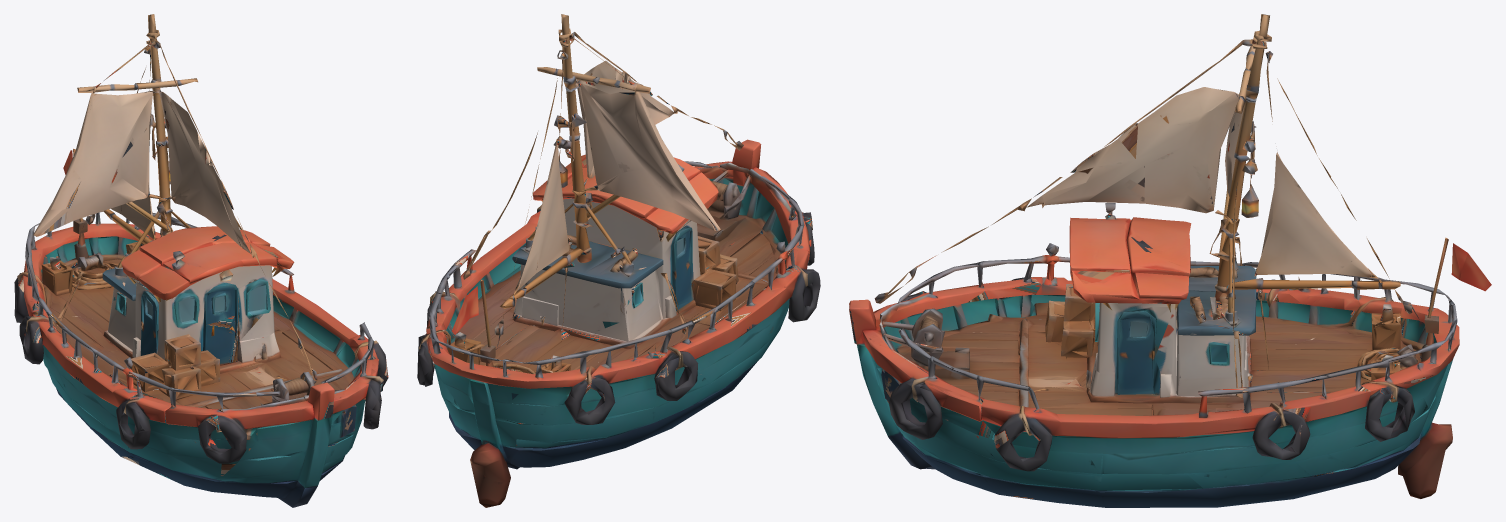
File: fishing-boat-cartoon-mobile-decimated.glb
The picture shows the model from 3 angles, left to right: view 1: azimuth 30°, elevation 25°; view 2: azimuth 150°, elevation 25°; view 3: azimuth 270°, elevation 25°; orthographic projection. The views are drawn at different scales.
Visible parts, largest first — view 1: model; view 2: model; view 3: model.
Part boxes in pixels (left/top/right/bottom): model: left=14, top=14, right=388, bottom=507; model: left=417, top=14, right=820, bottom=507; model: left=849, top=14, right=1491, bottom=507.
Size of the model in its own units: 1.02 by 1.54 by 1.87.
1 material, 1 textured.
